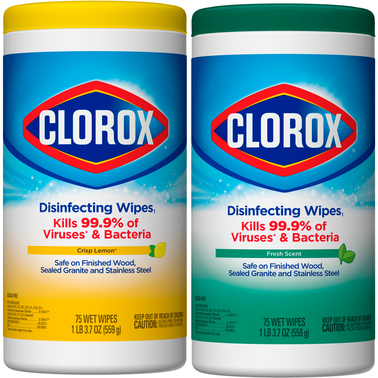Wipes: (188, 3, 377, 378), (1, 1, 189, 376)
